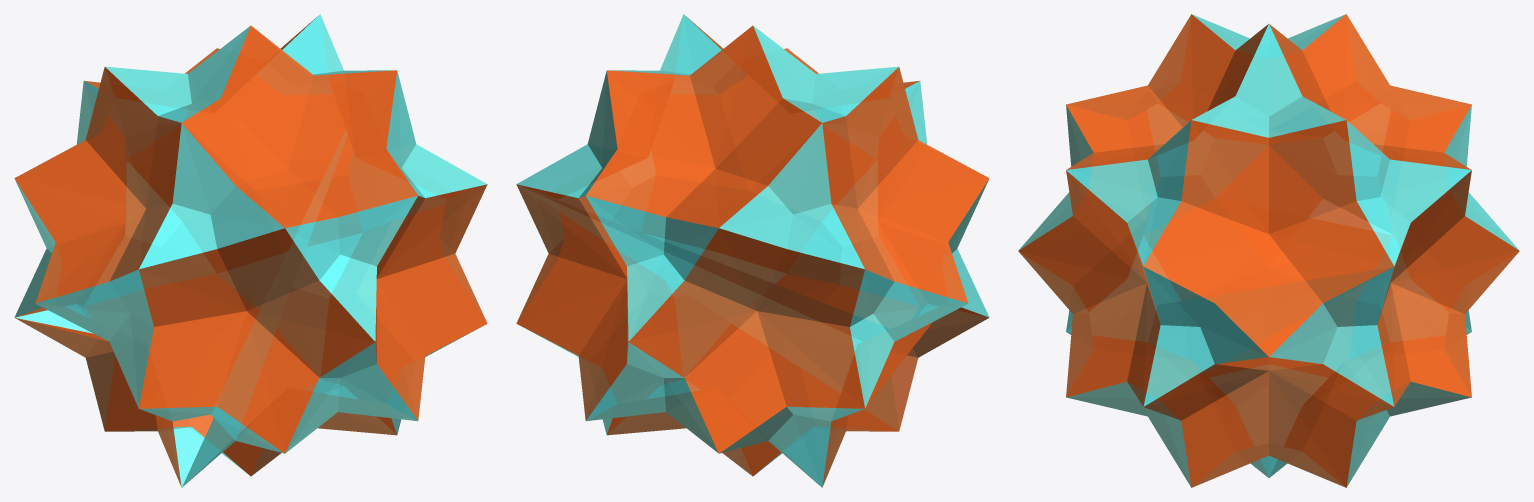
Rendered from Icosidodecahedron.obj.
3 views of the same model, side by side, from view 1: azimuth 30°, elevation 25°; view 2: azimuth 150°, elevation 25°; view 3: azimuth 270°, elevation 25° (orthographic).
Size of the model in its own units: 3.24 by 3.24 by 3.24.
